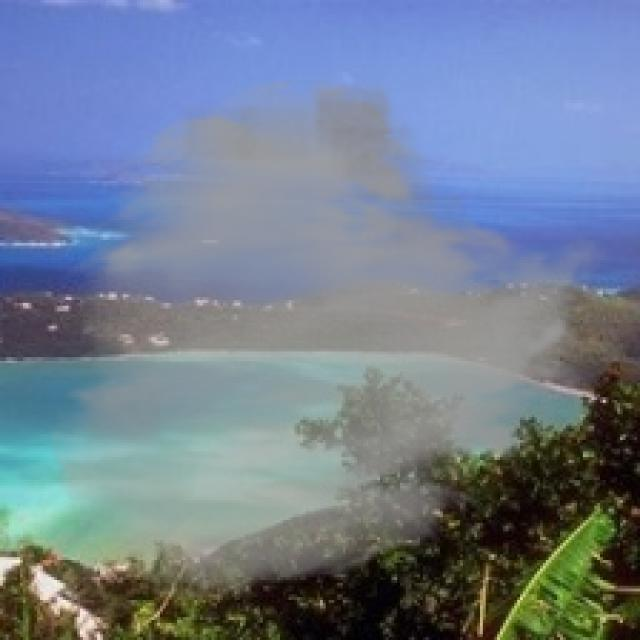Smoke: (46, 74, 608, 606)
